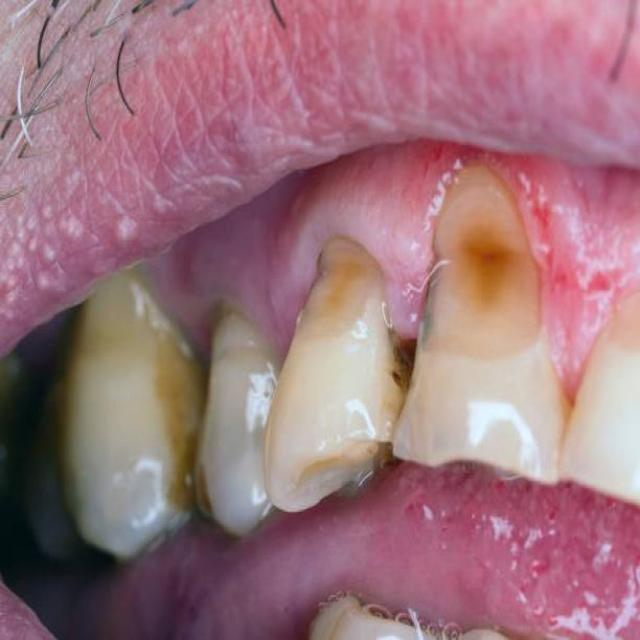caries: (427, 170, 539, 379), (281, 229, 392, 362)
